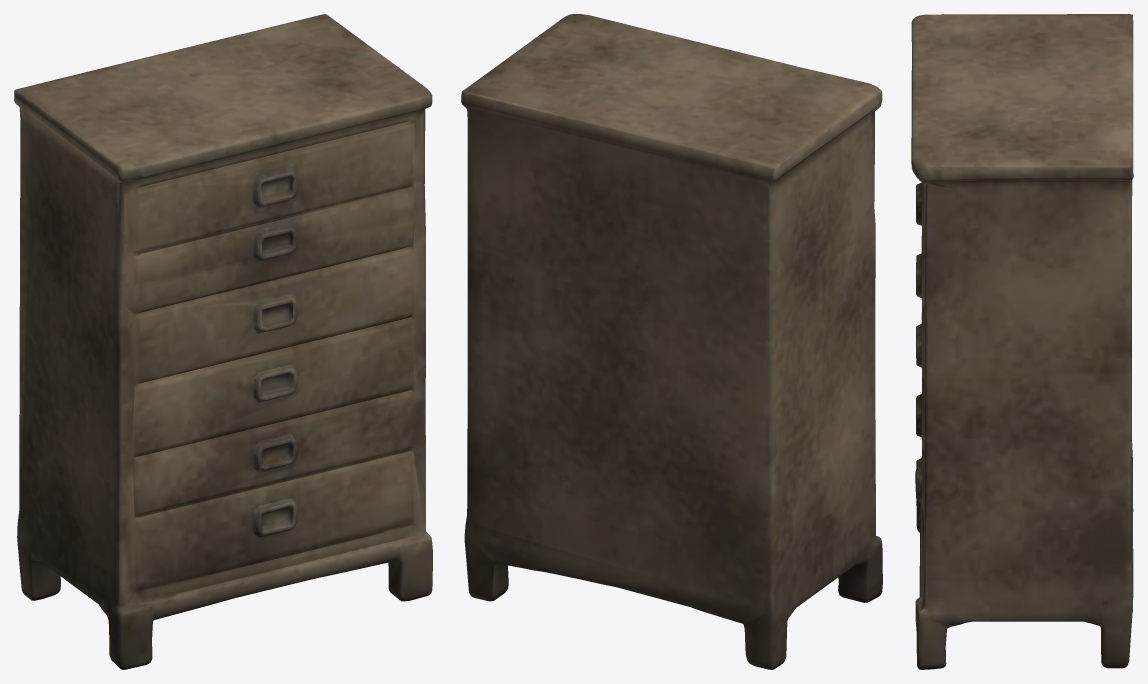
The model's file is rustic-wood-filing-cabinet-v001.glb.
The picture shows the model from 3 angles, left to right: view 1: azimuth 30°, elevation 25°; view 2: azimuth 150°, elevation 25°; view 3: azimuth 270°, elevation 25°; orthographic projection.
Visible parts, largest first — view 1: rustic-wood-filing-cabinet; view 2: rustic-wood-filing-cabinet; view 3: rustic-wood-filing-cabinet.
Boxes of the visible parts, x1=… form: rustic-wood-filing-cabinet: x1=14, y1=14, x2=432, y2=669; rustic-wood-filing-cabinet: x1=461, y1=14, x2=882, y2=669; rustic-wood-filing-cabinet: x1=911, y1=14, x2=1133, y2=669.
Size of the model in its own units: 0.9166 by 1.41 by 0.5602.
1 material, 1 textured.
